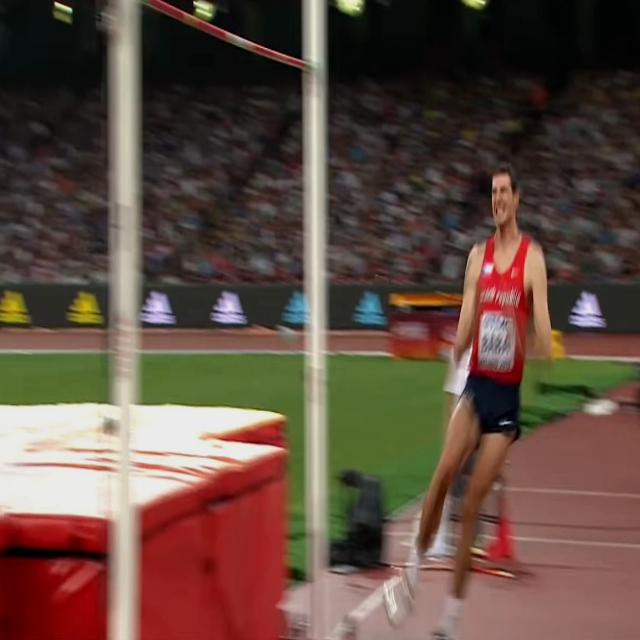jump: (383, 163, 554, 640)
